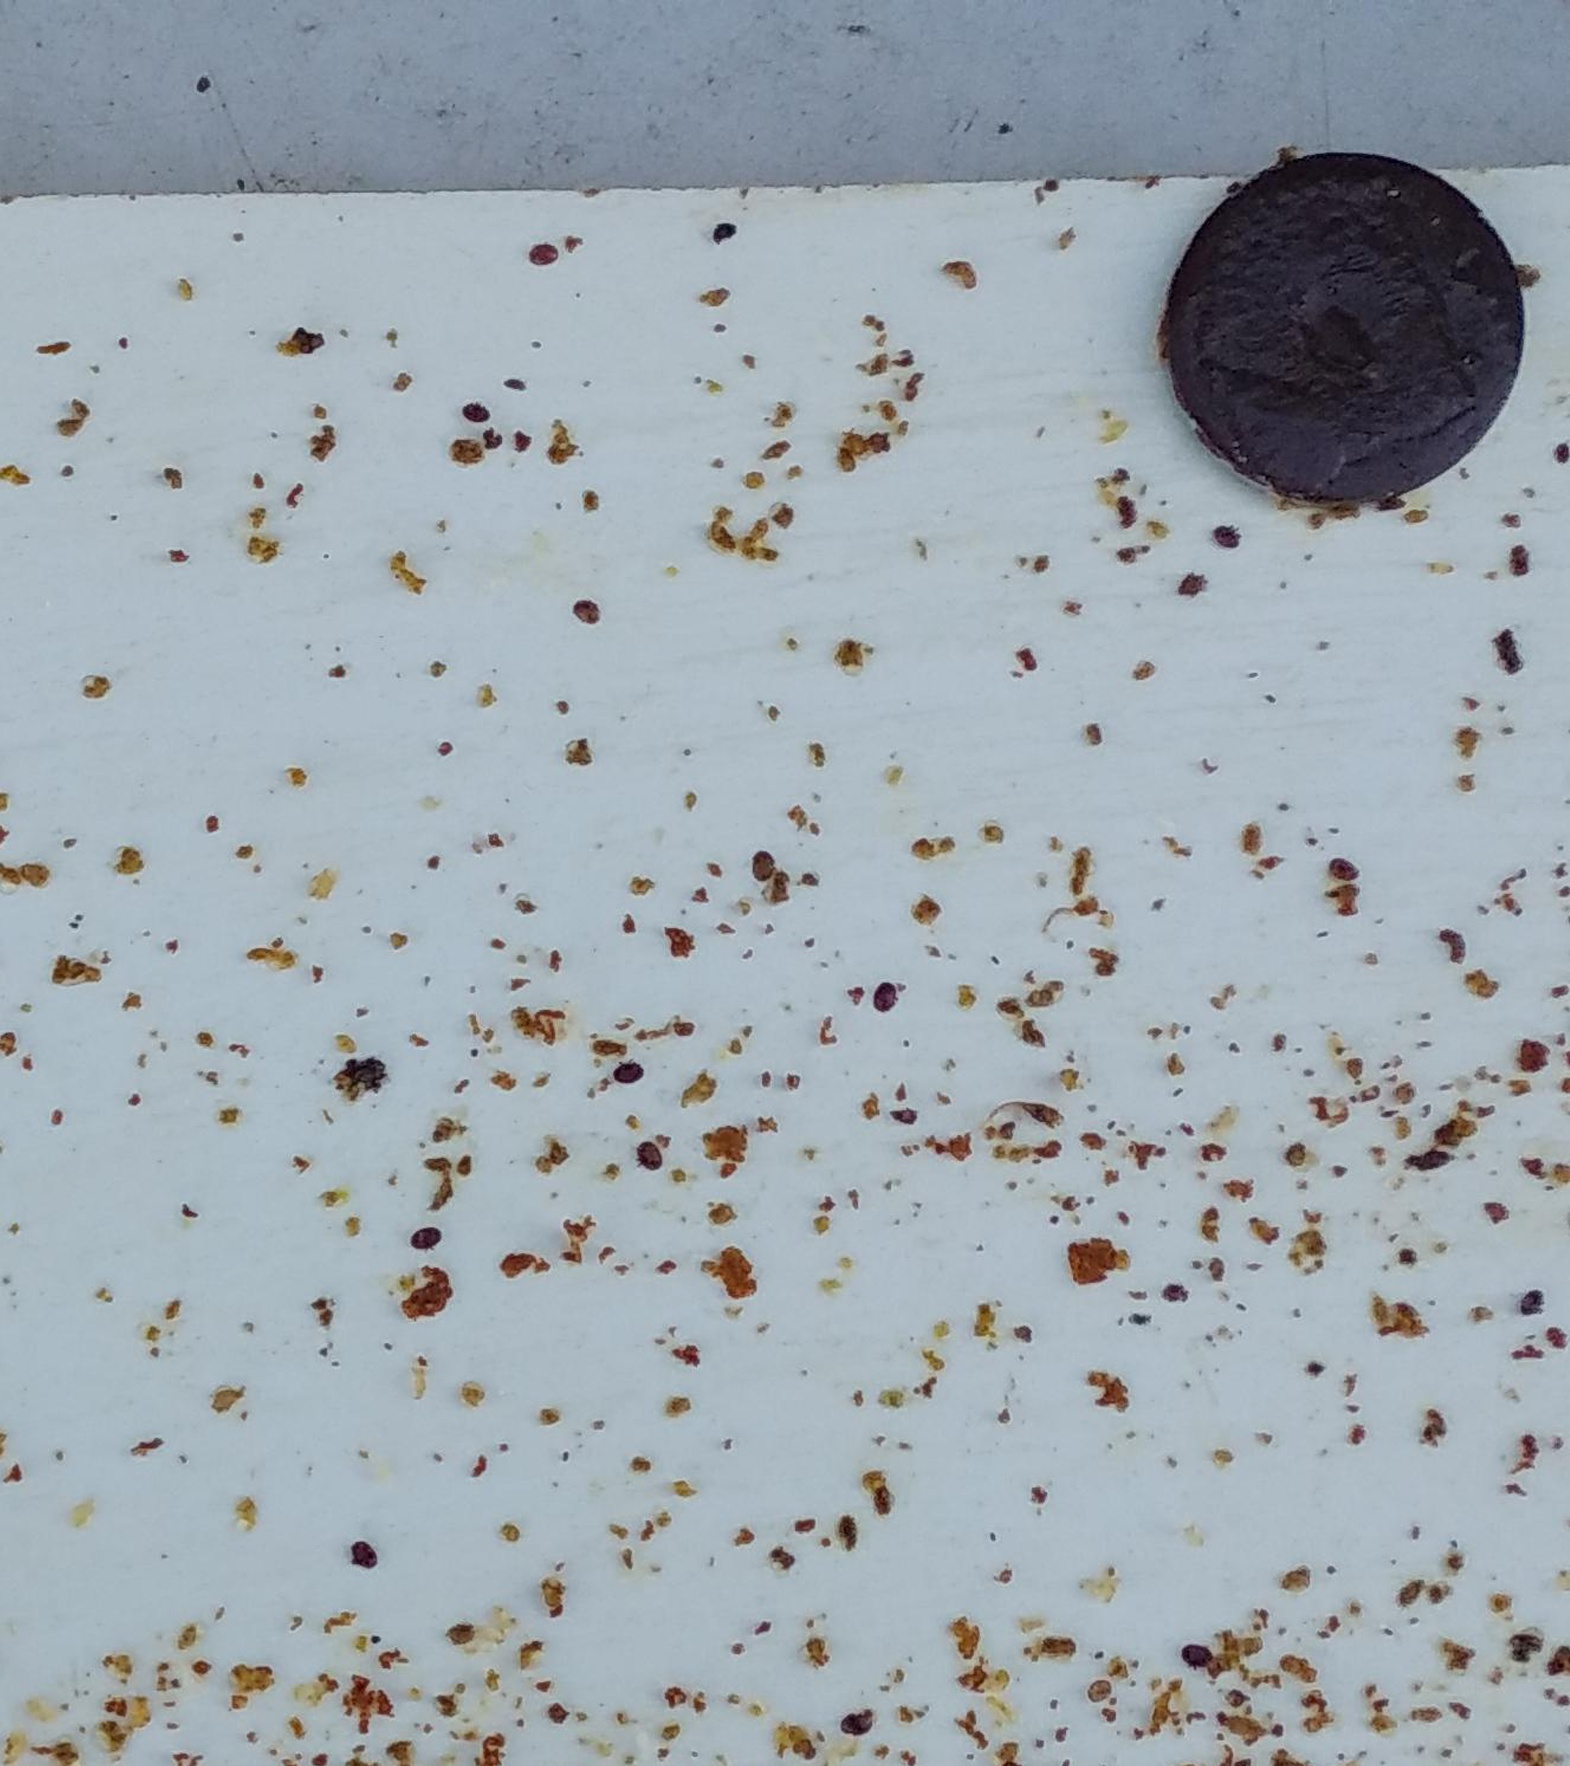Varroa: (1515, 1293, 1543, 1320), (635, 1146, 661, 1173), (846, 1711, 871, 1739), (462, 402, 488, 429), (1087, 1678, 1112, 1705), (576, 596, 602, 622), (1215, 521, 1240, 549), (877, 978, 903, 1002), (1185, 1637, 1209, 1663), (417, 1226, 443, 1251), (353, 1542, 377, 1567), (614, 1054, 636, 1079), (532, 249, 555, 271), (749, 860, 768, 881), (1332, 855, 1350, 873)
